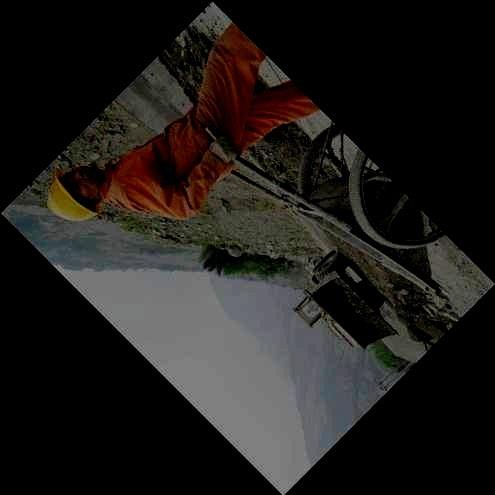helmet: (45, 165, 106, 223)
